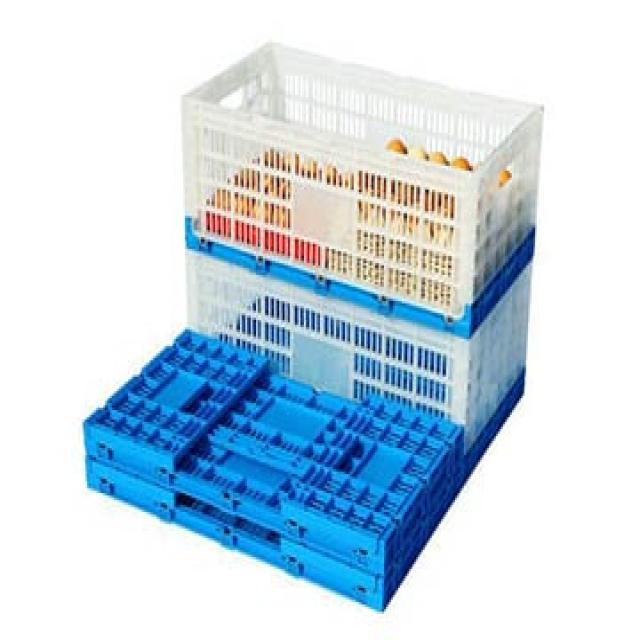basket: (113, 24, 592, 486), (61, 303, 482, 620)
